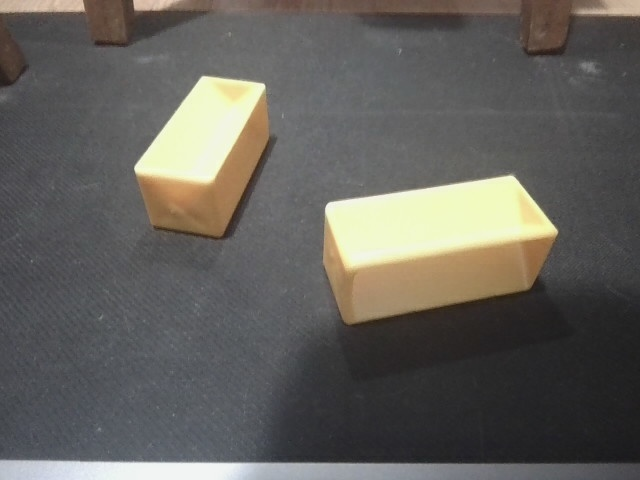YellowSample: (318, 172, 560, 328), (132, 74, 272, 244)
